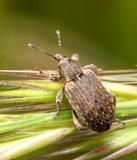weevils: (11, 12, 135, 145)
